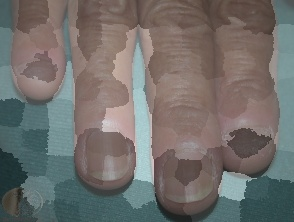Nail_psoriasis: (148, 128, 232, 220), (75, 114, 139, 188), (222, 120, 277, 167), (15, 48, 63, 89)
